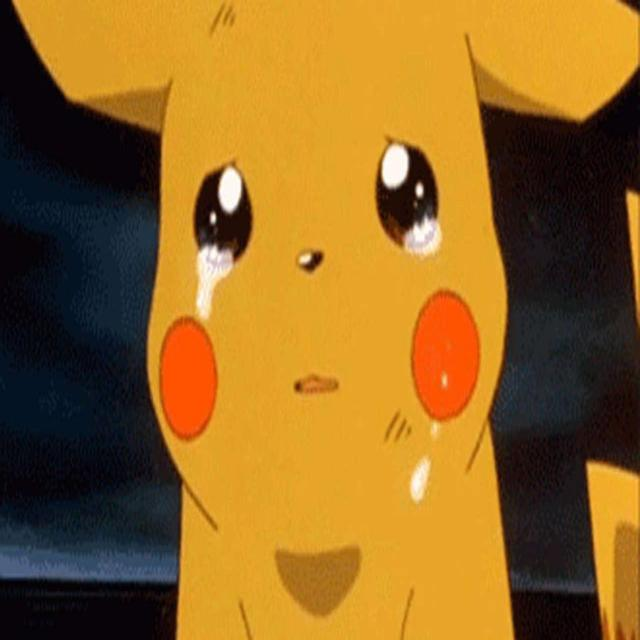pikachu: (12, 0, 640, 639)
